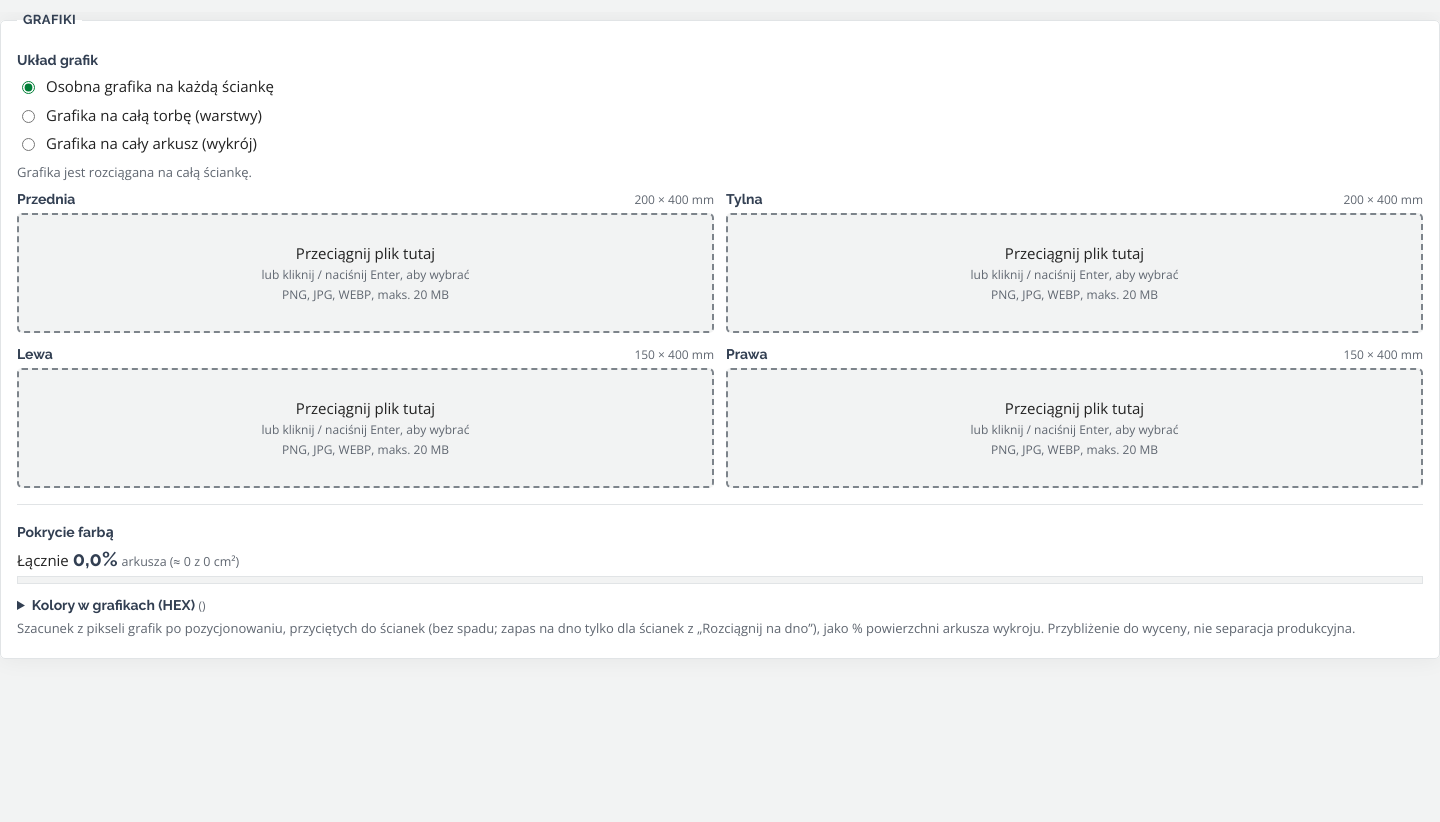
Test case: ArtworkConfigurator — artwork layout › shows four wall uploaders by default and the layer list after switching
expect the radio button labelled "Osobna grafika na każdą ściankę" is checked: met, box [22,81,35,94]
expect the number of buttons named "Ścianka Przednia: dodaj grafikę" is 4: met, box [17,213,714,333]; [726,213,1423,333]; [17,368,714,488]; [726,368,1423,488]
Click the radio button labelled "Grafika na całą torbę (warstwy)".
click(28, 116)  # box [22,110,35,123]
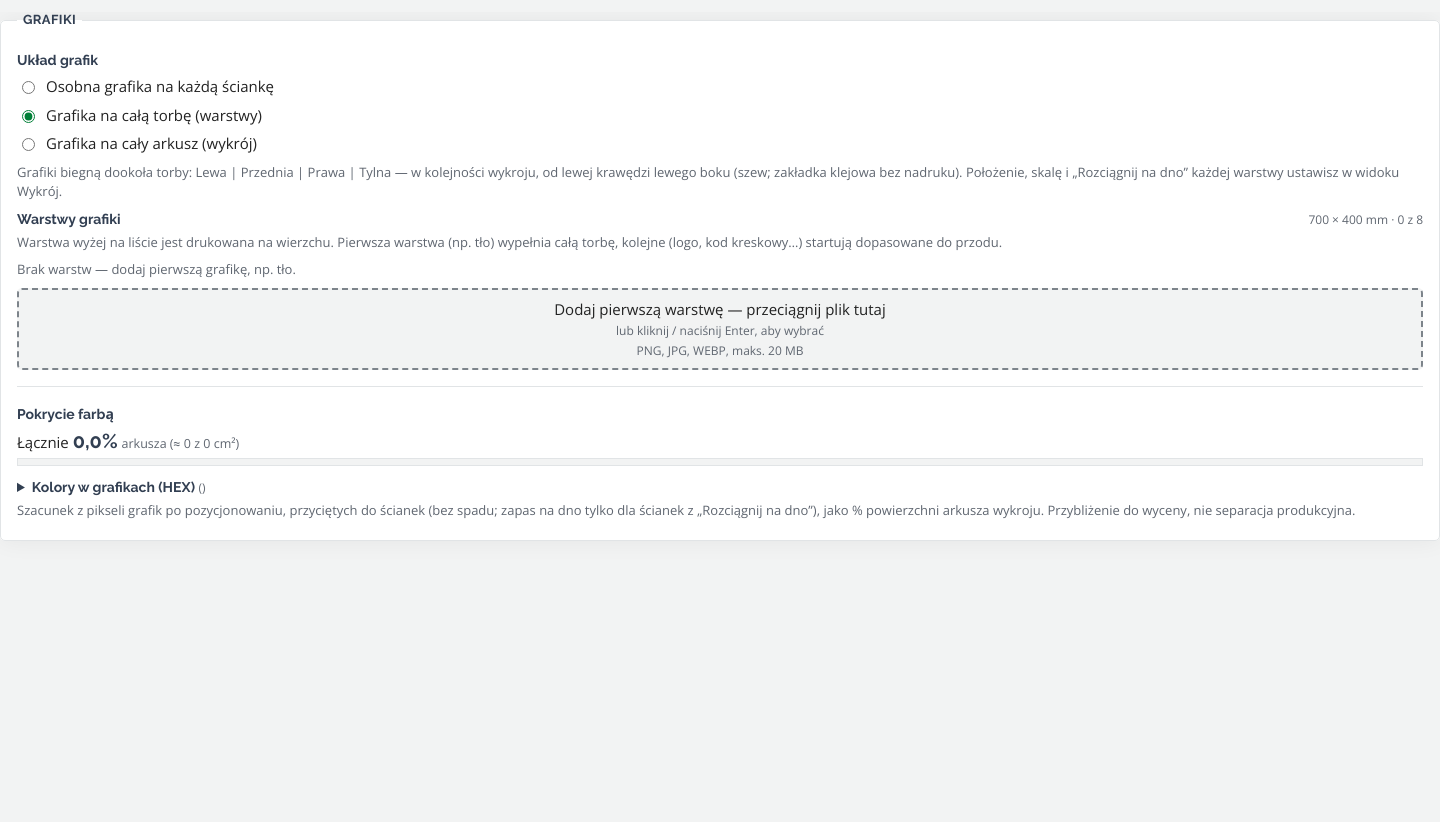
expect the button with aria-label "Dodaj warstwę grafiki całej torby" is shown: met, box [17,288,1423,370]
expect the text "Brak warstw — dodaj pierwszą grafikę, np. tło." is shown: met, box [17,260,296,278]
expect the text "Lewa | Przednia | Prawa | Tylna — w kolejności wykroju, od lewej krawędzi lewego boku" is shown: met, box [17,163,1399,200]
